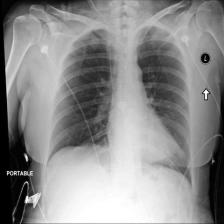normal: (46, 23, 194, 189)
